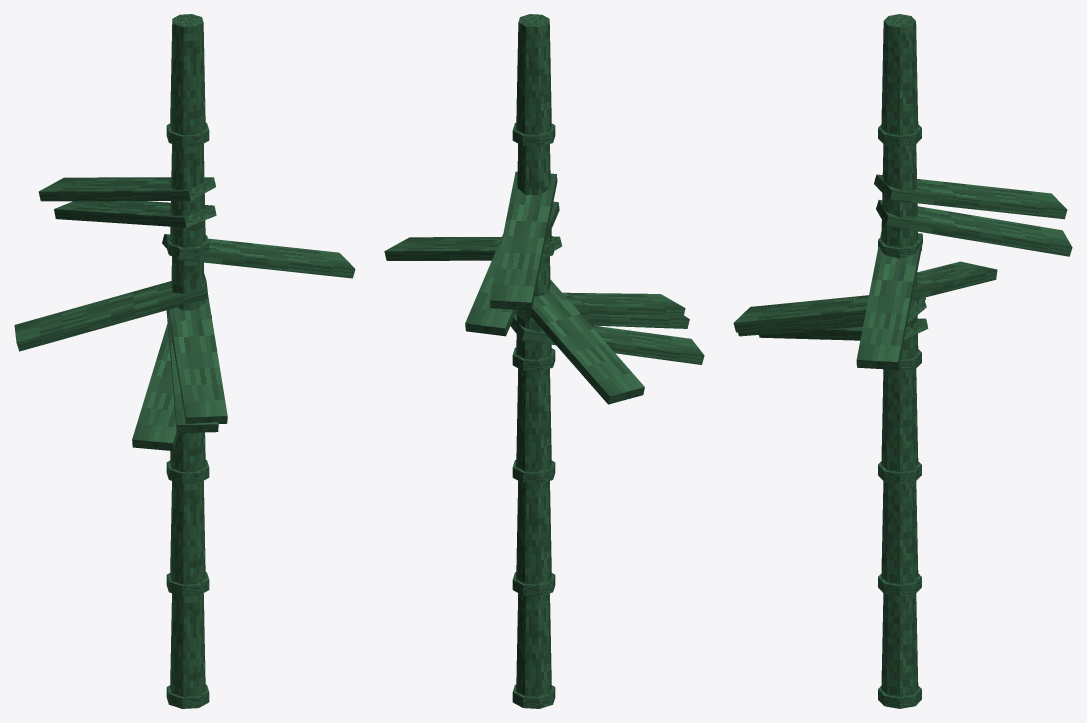
File: bamboo_17.glb
3 views of the same model, side by side, from view 1: azimuth 30°, elevation 25°; view 2: azimuth 150°, elevation 25°; view 3: azimuth 270°, elevation 25° (orthographic).
Visible parts, largest first — view 1: Leaf.004, Leaf, Stem.005, Leaf.006, Leaf.002, Stem, Stem.001, Leaf.005, Leaf.001, Stem.004, Stem.002, Stem.003 (+5 smaller); view 2: Leaf.002, Leaf, Stem.005, Stem, Stem.001, Stem.002, Leaf.005, Leaf.006, Leaf.004, Leaf.001, Stem.004, Leaf.003 (+6 smaller); view 3: Leaf.006, Leaf.001, Leaf.002, Stem.005, Stem, Stem.002, Stem.001, Leaf.004, Stem.004, Leaf, Leaf.005, Leaf.003 (+4 smaller).
Part boxes in pixels (x1,y1,x2,y2): Leaf.004: (167,297,227,423); Leaf: (14,274,208,351); Stem.005: (170,14,205,135); Leaf.006: (162,234,355,278); Leaf.002: (38,177,215,201); Stem: (170,593,205,696); Stem.001: (170,481,205,584); Leaf.005: (132,315,211,450); Leaf.001: (54,201,216,227); Stem.004: (170,144,205,247); Stem.002: (170,432,205,472); Stem.003: (171,256,204,310); Leaf.002: (490,171,557,310); Leaf: (526,279,644,404); Stem.005: (516,14,551,135); Stem: (516,593,551,696); Stem.001: (516,481,551,584); Stem.002: (516,368,551,472); Leaf.005: (510,315,704,364); Leaf.006: (384,236,562,260); Leaf.004: (520,292,685,315); Leaf.001: (465,201,559,336); Stem.004: (517,144,551,244); Leaf.003: (515,309,689,328); Leaf.006: (856,231,922,369); Leaf.001: (876,200,1072,256); Leaf.002: (874,174,1067,219); Stem.005: (881,14,918,135); Stem: (881,593,918,696); Stem.002: (881,369,918,472); Stem.001: (881,481,918,584); Leaf.004: (733,295,925,332); Stem.004: (881,144,918,247); Leaf: (911,261,997,300); Leaf.005: (759,318,928,340); Leaf.003: (738,301,926,336).
Size of the model in its own units: 1.45 by 3.23 by 1.46.
Materials: 1 (1 with a texture image).
